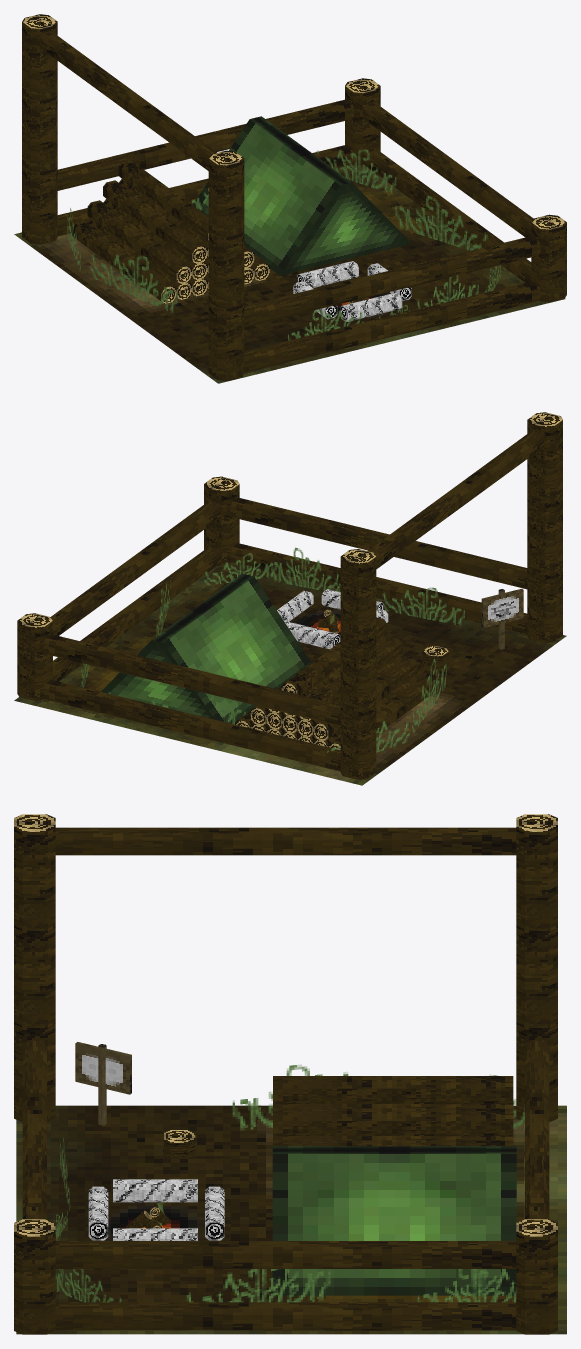
The model's file is WOOD LOGS.glb.
3 renders of one model, top to bottom at view 1: azimuth 30°, elevation 25°; view 2: azimuth 150°, elevation 25°; view 3: azimuth 270°, elevation 25°, orthographic. The views are drawn at different scales.
Visible parts, largest first — view 1: GROUND-col, TENT-col, WOOD_LOG.026-col, WOOD_LOG.017-col, WOOD_LOG.029-col, WOOD_LOG.039-col, WOOD_LOG.031-col, WOOD_LOG.030-col, WOOD_LOG.040-col, WOOD_LOG.032-col, WOOD_LOG.034-col, WOOD_LOG.037-col (+19 smaller); view 2: GROUND-col, TENT-col, WOOD_LOG.029-col, WOOD_LOG.028-col, WOOD_LOG.026-col, WOOD_LOG.017-col, WOOD_LOG.039-col, WOOD_LOG.031-col, WOOD_LOG.030-col, WOOD_LOG.041-col, WOOD_LOG.033-col, WOOD_LOG.035-col (+20 smaller); view 3: GROUND-col, TENT-col, WOOD_LOG.030-col, WOOD_LOG.039-col, WOOD_LOG.031-col, WOOD_LOG.003-col, WOOD_LOG-col, WOOD_LOG.032-col, WOOD_LOG.033-col, WOOD_LOG.041-col, WOOD_LOG.040-col, WOOD_LOG.026-col (+19 smaller).
Part boxes in pixels (left/top/right/bottom): GROUND-col: left=14, top=164, right=565, bottom=383; TENT-col: left=192, top=116, right=411, bottom=275; WOOD_LOG.026-col: left=244, top=235, right=540, bottom=327; WOOD_LOG.017-col: left=244, top=281, right=540, bottom=372; WOOD_LOG.029-col: left=57, top=99, right=353, bottom=190; WOOD_LOG.039-col: left=40, top=32, right=216, bottom=170; WOOD_LOG.031-col: left=362, top=102, right=533, bottom=237; WOOD_LOG.030-col: left=362, top=148, right=531, bottom=282; WOOD_LOG.040-col: left=208, top=150, right=244, bottom=237; WOOD_LOG.032-col: left=531, top=214, right=566, bottom=302; WOOD_LOG.034-col: left=208, top=301, right=244, bottom=381; WOOD_LOG.037-col: left=208, top=230, right=244, bottom=309; GROUND-col: left=14, top=563, right=566, bottom=785; TENT-col: left=101, top=573, right=311, bottom=724; WOOD_LOG.029-col: left=44, top=634, right=340, bottom=725; WOOD_LOG.028-col: left=44, top=679, right=340, bottom=771; WOOD_LOG.026-col: left=230, top=497, right=527, bottom=589; WOOD_LOG.017-col: left=230, top=543, right=527, bottom=634; WOOD_LOG.039-col: left=368, top=430, right=545, bottom=569; WOOD_LOG.031-col: left=51, top=500, right=221, bottom=635; WOOD_LOG.030-col: left=53, top=546, right=221, bottom=681; WOOD_LOG.041-col: left=340, top=549, right=376, bottom=635; WOOD_LOG.033-col: left=17, top=613, right=52, bottom=700; WOOD_LOG.035-col: left=340, top=700, right=376, bottom=779; GROUND-col: left=16, top=1105, right=566, bottom=1334; TENT-col: left=272, top=1146, right=516, bottom=1295; WOOD_LOG.030-col: left=55, top=1302, right=516, bottom=1330; WOOD_LOG.039-col: left=55, top=827, right=516, bottom=855; WOOD_LOG.031-col: left=55, top=1241, right=516, bottom=1268; WOOD_LOG.003-col: left=273, top=1108, right=513, bottom=1135; WOOD_LOG-col: left=273, top=1076, right=513, bottom=1103; WOOD_LOG.032-col: left=14, top=1219, right=55, bottom=1334; WOOD_LOG.033-col: left=516, top=1219, right=557, bottom=1334; WOOD_LOG.041-col: left=516, top=814, right=557, bottom=929; WOOD_LOG.040-col: left=14, top=814, right=55, bottom=929; WOOD_LOG.026-col: left=22, top=1040, right=46, bottom=1219.
Bounding box in the file's own units: 56.55 × 33.88 × 57.25.
7 materials, 7 textured.
